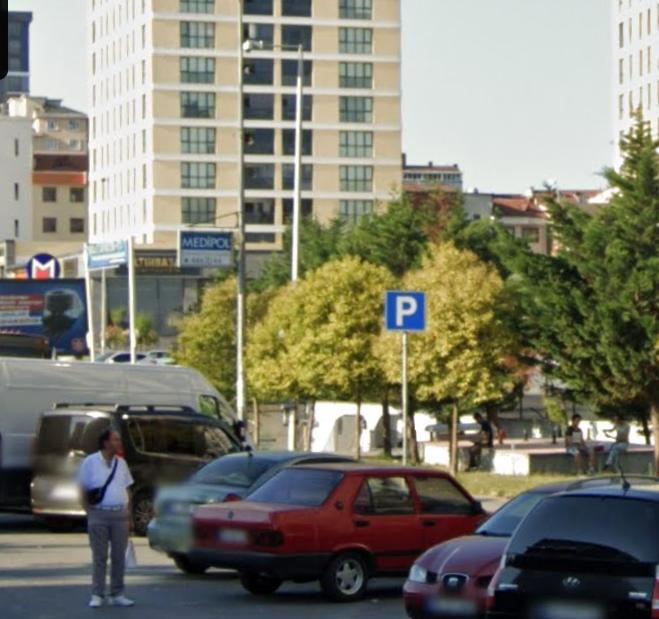park: (386, 292, 424, 331)
